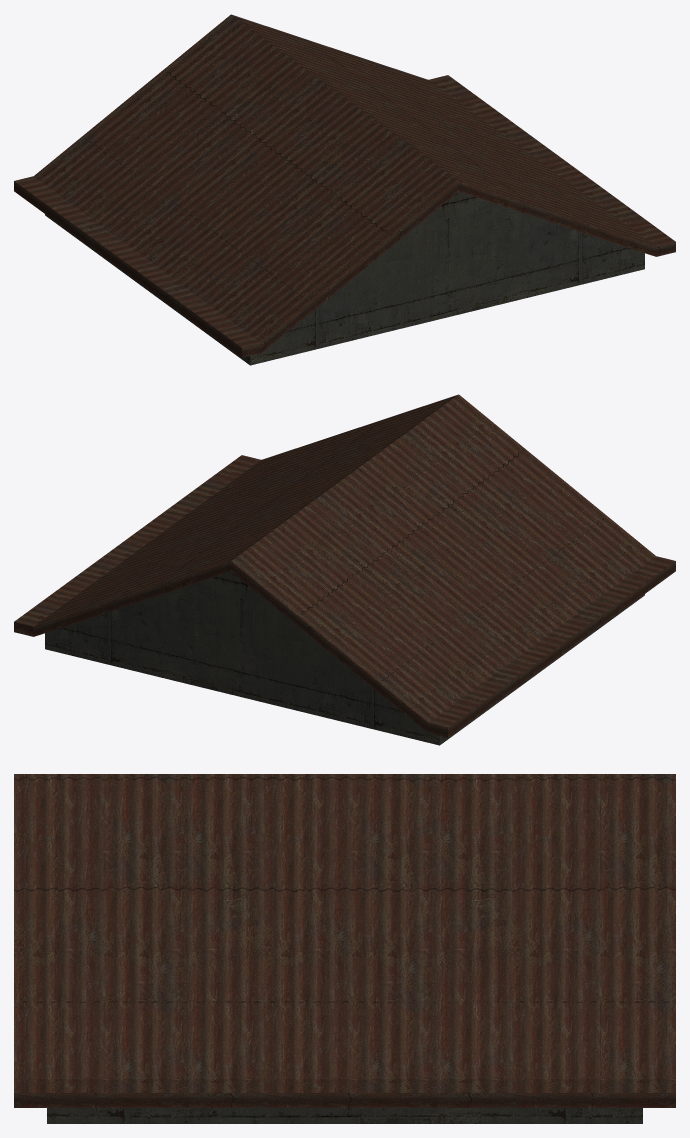
The model's file is roof_mx_1.fbx.
3 views of the same model, one above another, from view 1: azimuth 30°, elevation 25°; view 2: azimuth 150°, elevation 25°; view 3: azimuth 270°, elevation 25° (orthographic). The views are drawn at different scales.
Visible parts, largest first — view 1: roof_mx_1; view 2: roof_mx_1; view 3: roof_mx_1.
Boxes of the visible parts, x1,y1,x2,y2 form: roof_mx_1: [14, 14, 675, 365]; roof_mx_1: [14, 394, 675, 745]; roof_mx_1: [14, 774, 675, 1123].
Bounding box in the file's own units: 4.4 × 4 × 1.4.
